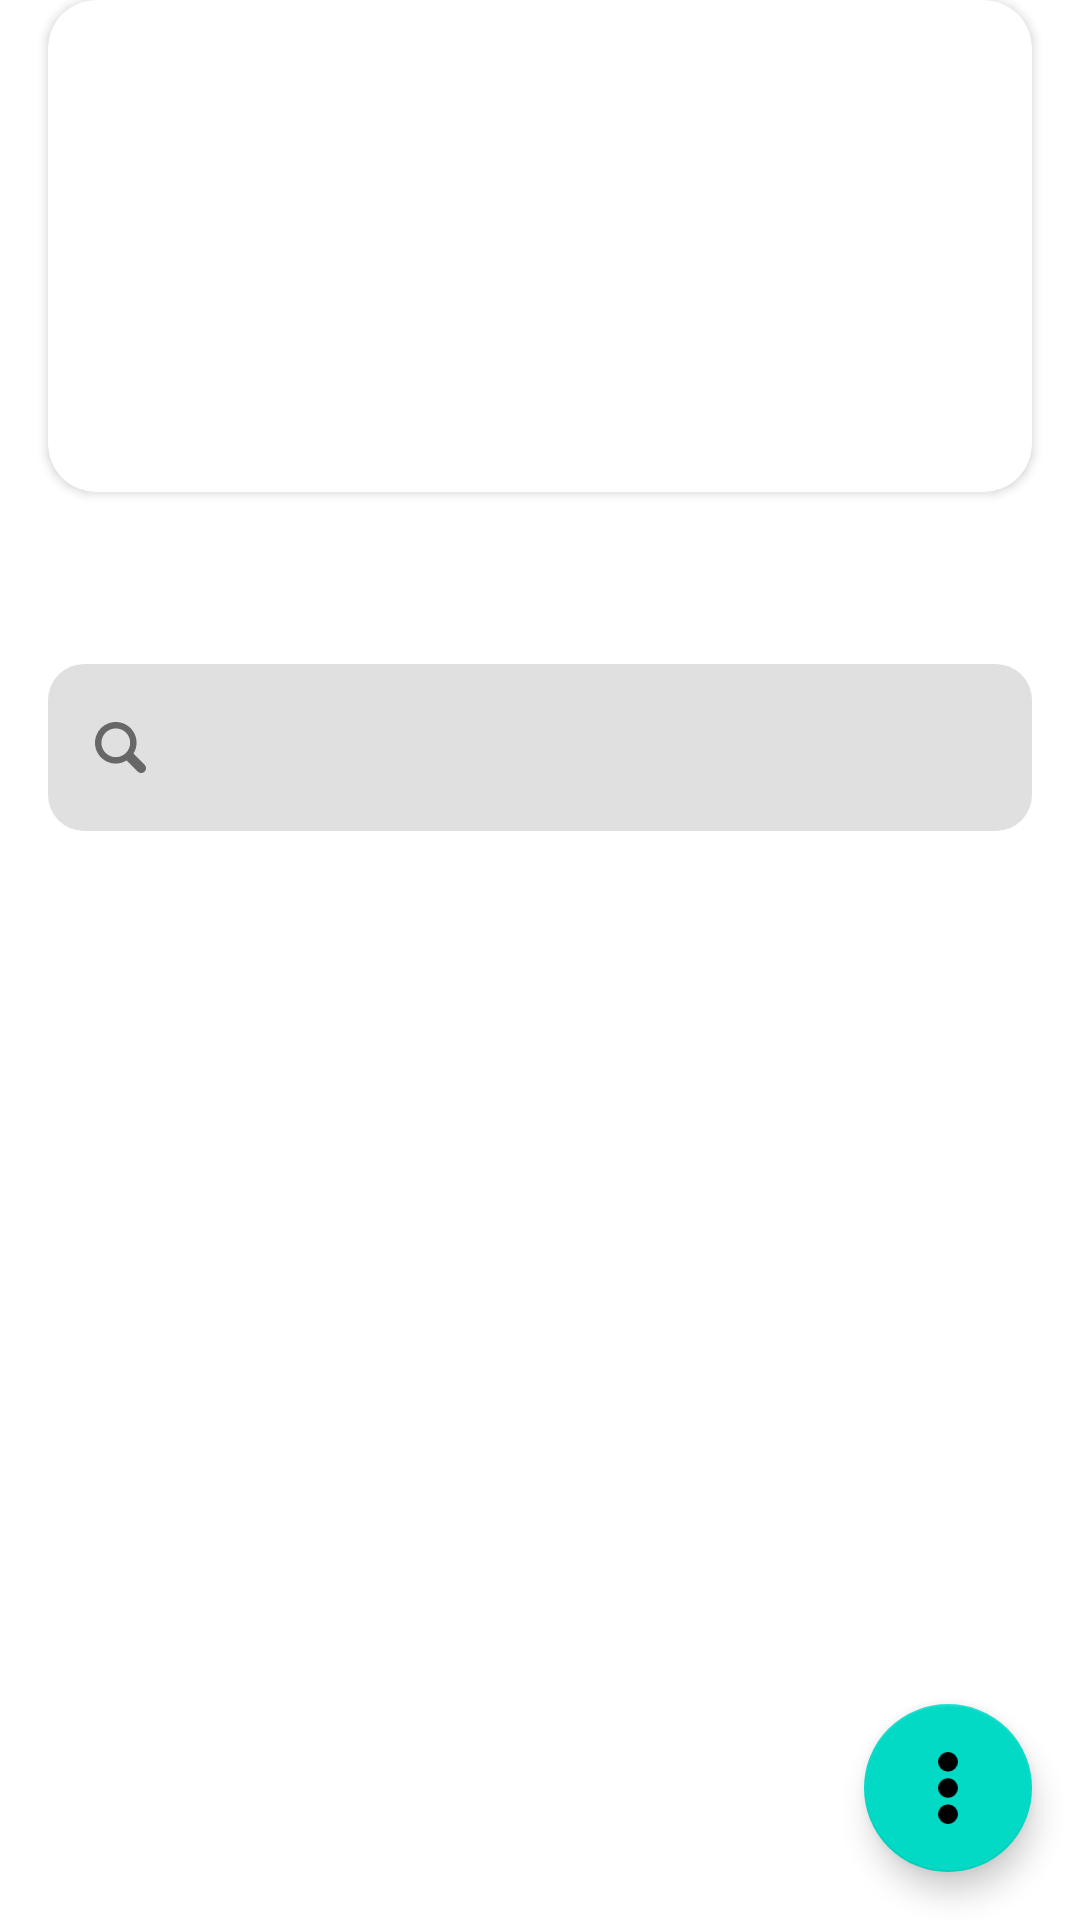

Named icons in this screenshot (1080w x 1920h) and their centers, (x=x, y=y):
vert: (x=948, y=1788)
